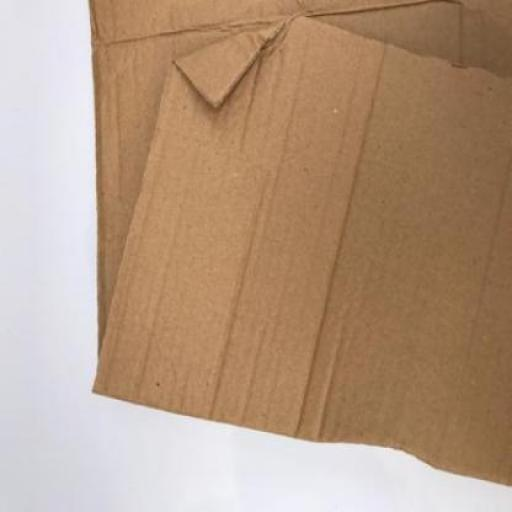cardboard: (87, 0, 510, 487)
